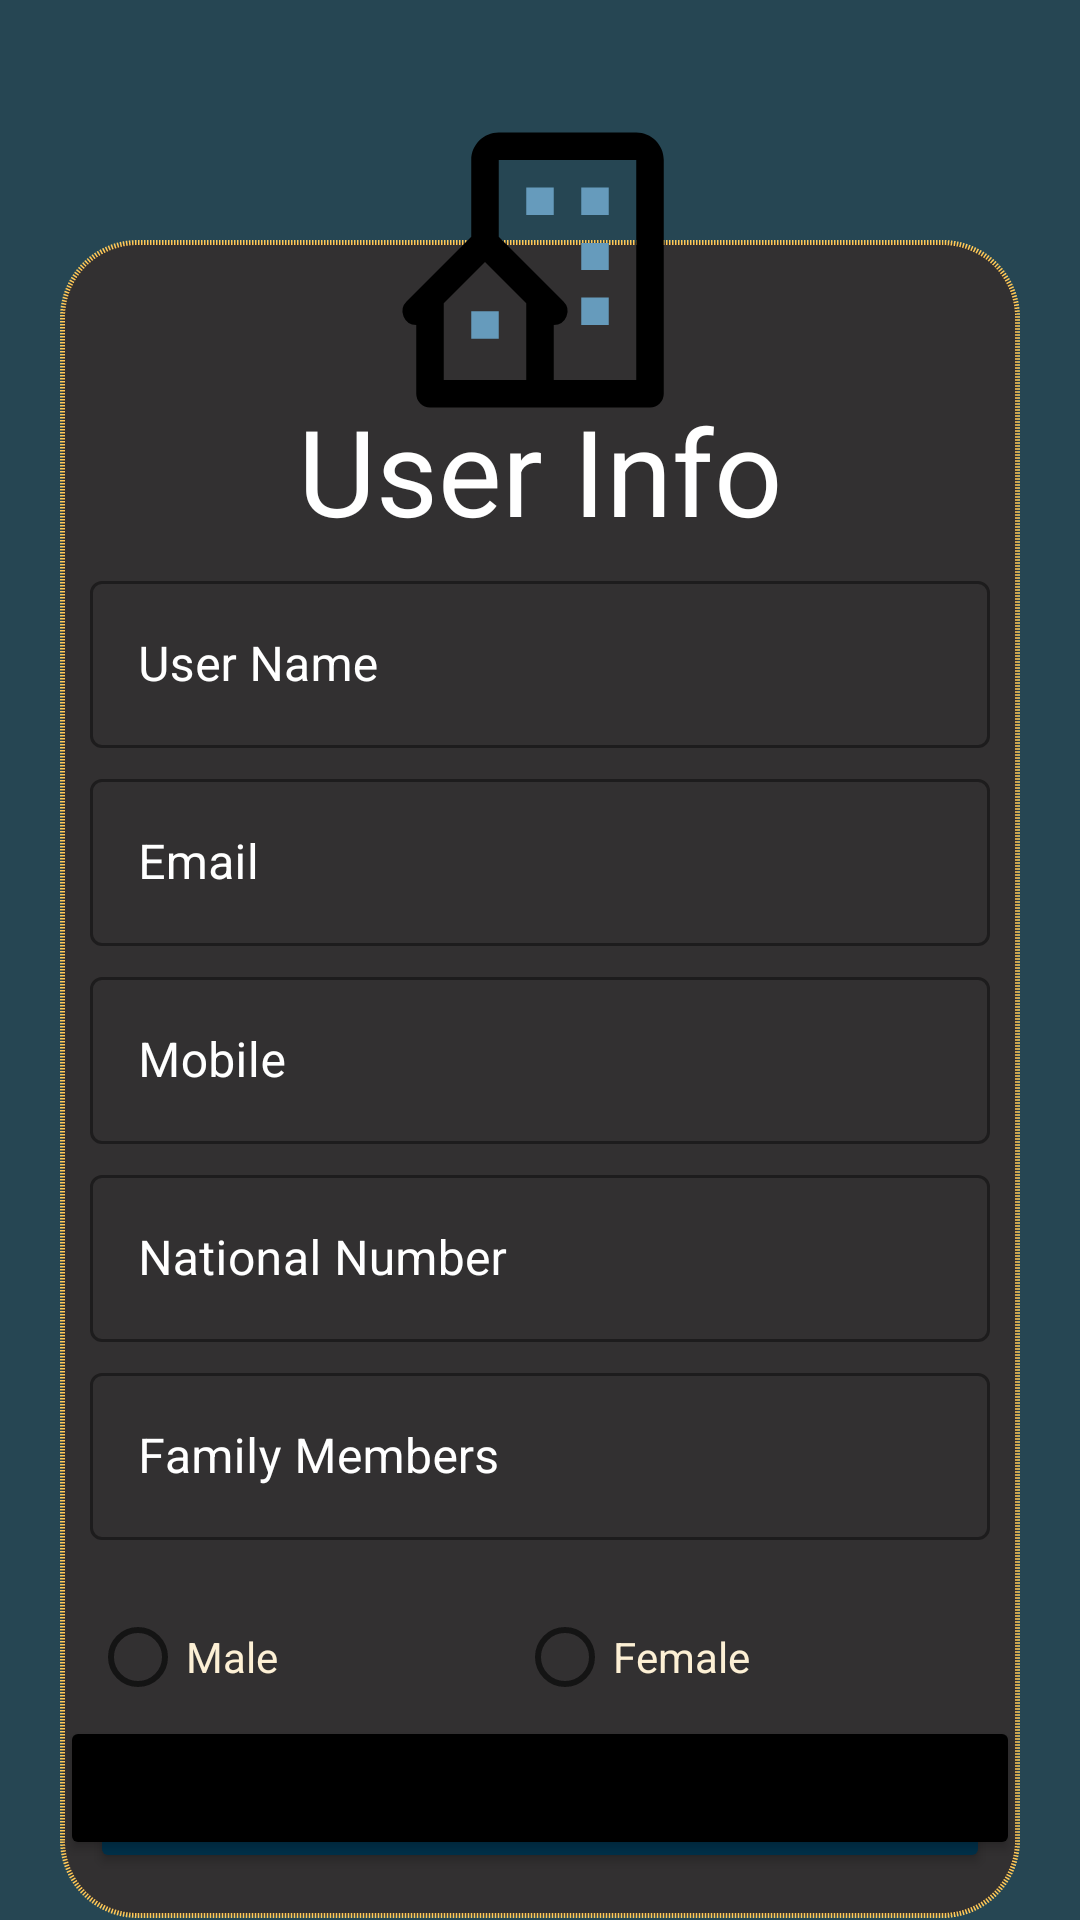

Icon click points for this 1080x1920 phone screenshot, format (x=x, y=y):
house: (x=540, y=270)
